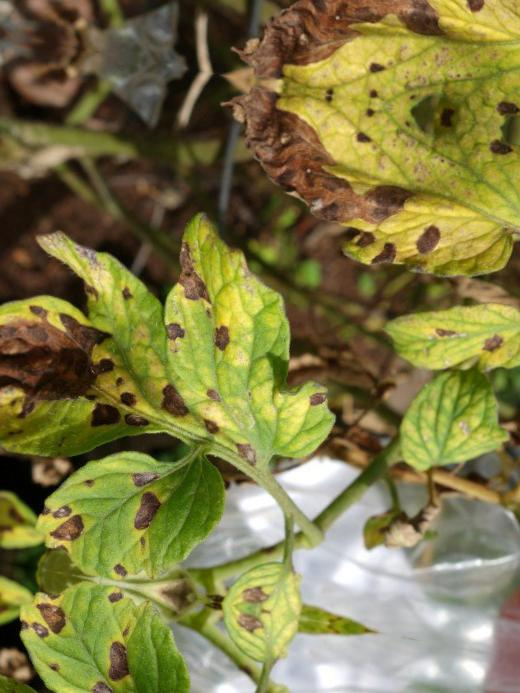Tomato leaf bacterial spot: (180, 73, 520, 299), (134, 208, 364, 490), (28, 421, 236, 594), (394, 360, 520, 489), (382, 277, 520, 391)
